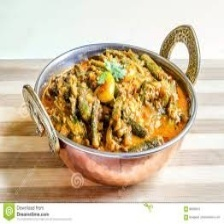sabzi: (34, 46, 194, 156)
